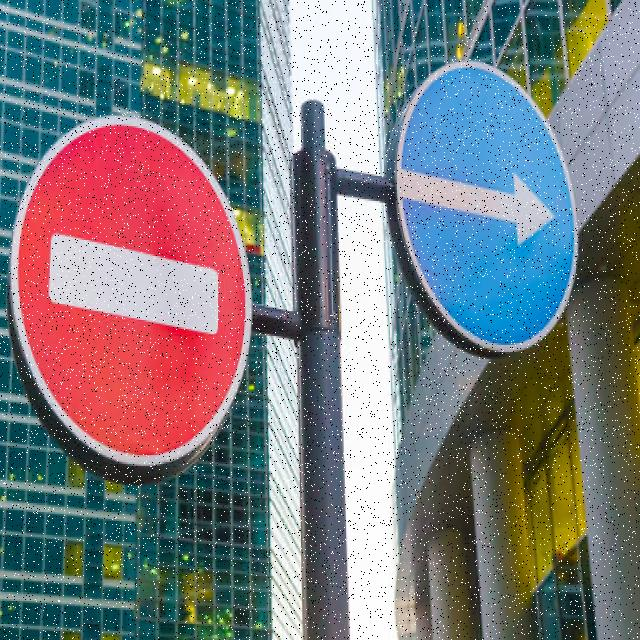compulsory_keep_right: (390, 38, 588, 398)
do_not_enter: (4, 91, 255, 487)
